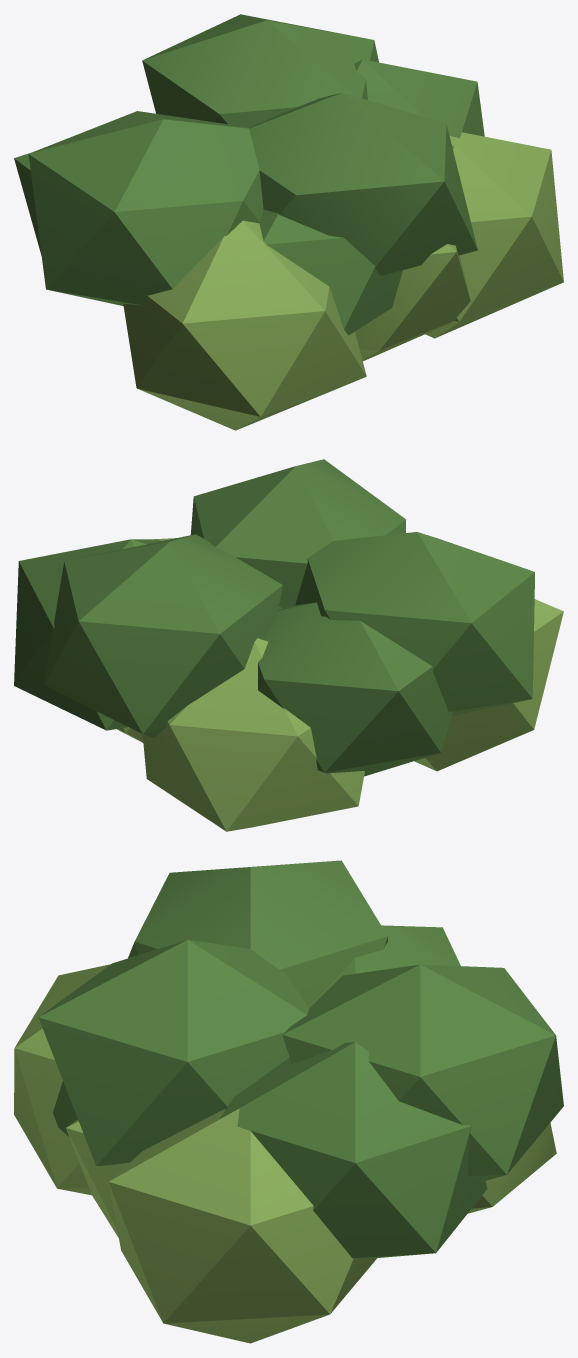
The model's file is bush_a.glb.
3 renders of one model, top to bottom at view 1: azimuth 30°, elevation 25°; view 2: azimuth 150°, elevation 25°; view 3: azimuth 270°, elevation 25°, orthographic. The views are drawn at different scales.
Parts seen in each view (by area): view 1: bush_a; view 2: bush_a; view 3: bush_a.
Part boxes in pixels (x1=…): bush_a: x1=14, y1=14, x2=563, y2=430; bush_a: x1=14, y1=459, x2=563, y2=831; bush_a: x1=14, y1=860, x2=563, y2=1343.
Bounding box in the file's own units: 2.01 × 1.12 × 1.66.
